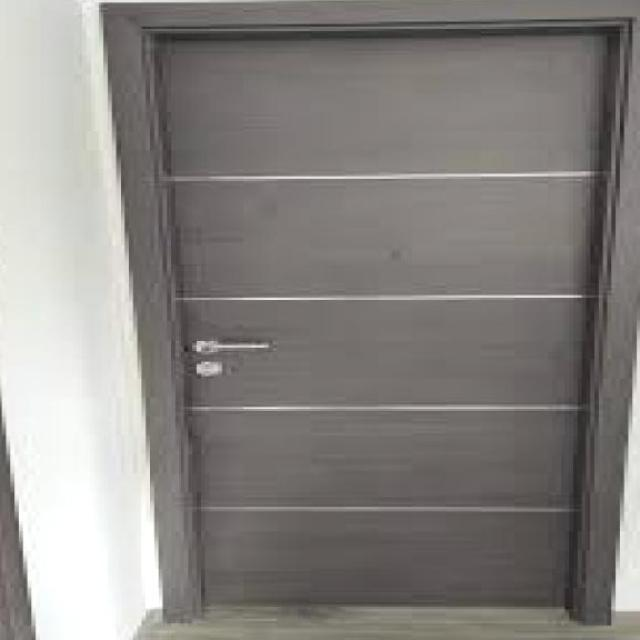door: (114, 12, 627, 624)
